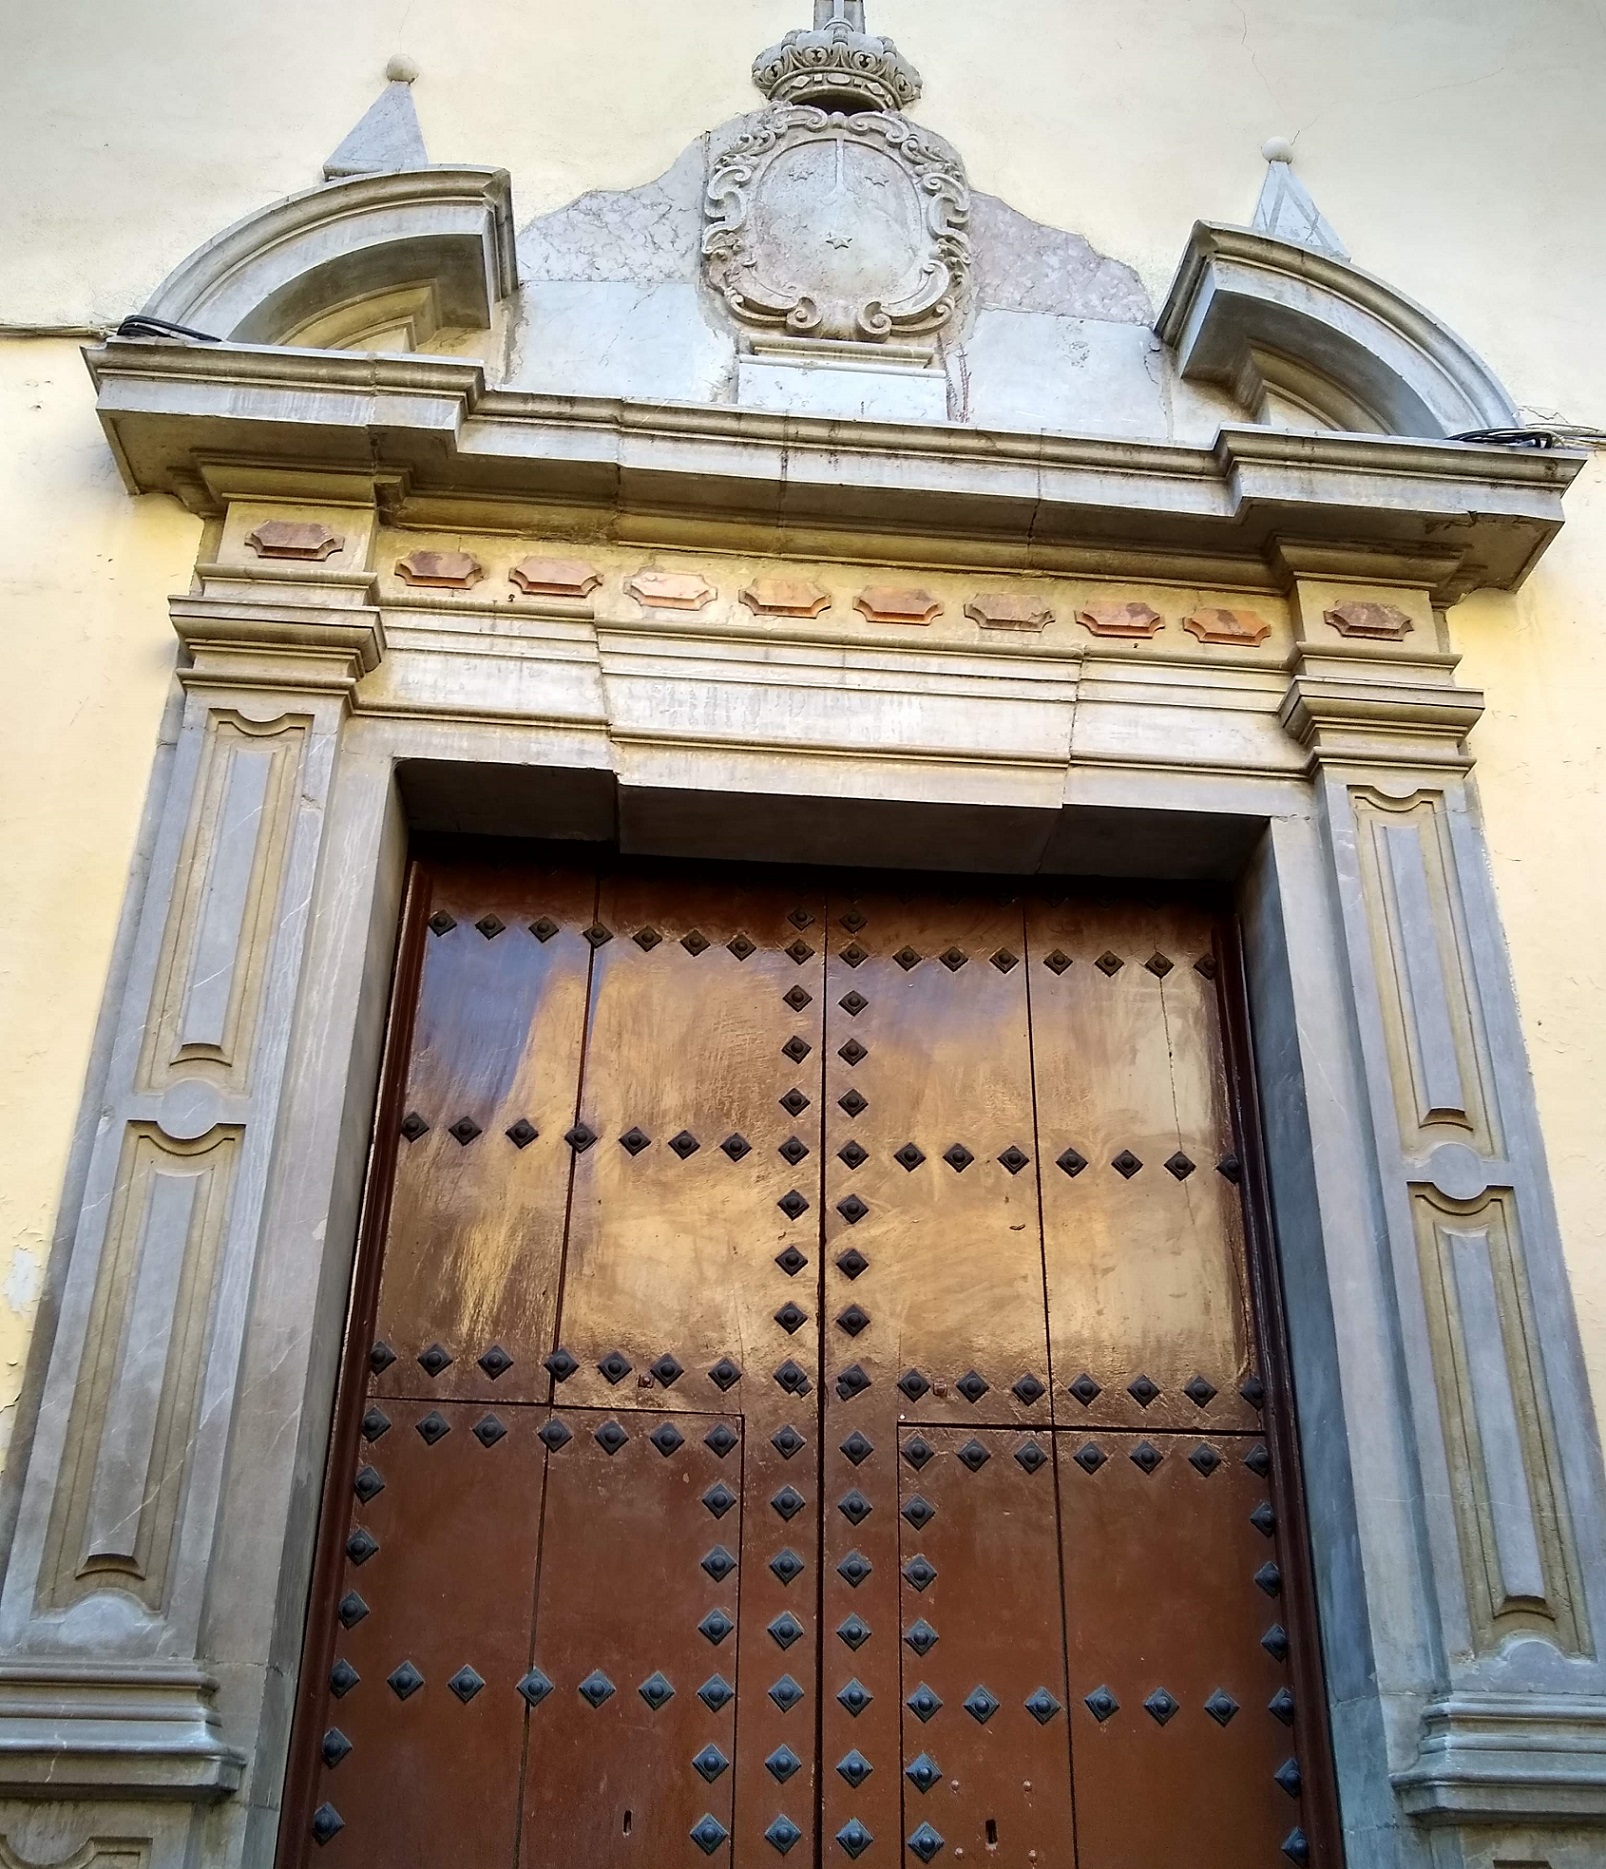fronton-partido: (79, 157, 1577, 544)
vano-adintelado: (246, 679, 1482, 1869)
